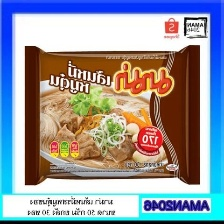snack: (17, 40, 207, 190)
